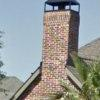Chimney: (35, 1, 83, 90)
